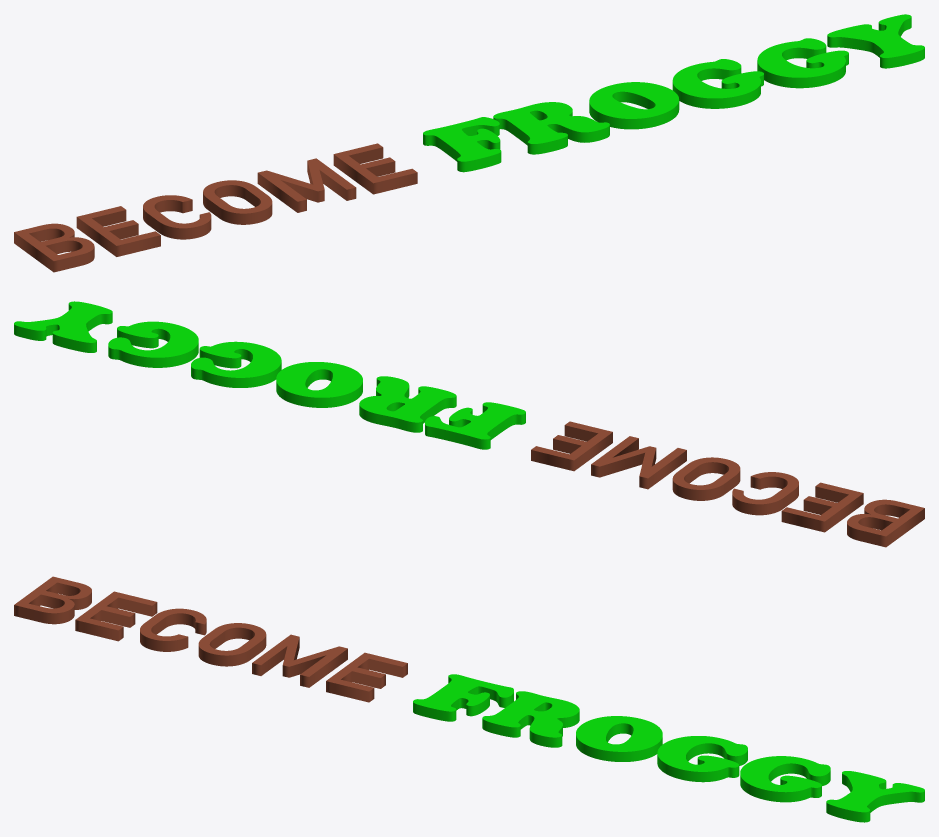
Rendered from become_froggy.fbx.
3 renders of one model, top to bottom at view 1: azimuth 30°, elevation 25°; view 2: azimuth 150°, elevation 25°; view 3: azimuth 330°, elevation 25°, orthographic. The views are drawn at different scales.
Visible parts, largest first — view 1: BecomeFroggy; view 2: BecomeFroggy; view 3: BecomeFroggy.
Boxes of the visible parts, x1=… form: BecomeFroggy: x1=14, y1=14, x2=924, y2=272; BecomeFroggy: x1=14, y1=301, x2=924, y2=547; BecomeFroggy: x1=14, y1=576, x2=924, y2=822.
Bounding box in the file's own units: 717 × 8.61 × 59.82.
